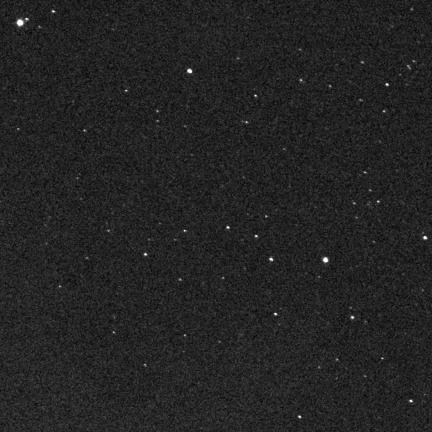blob: (187, 69, 192, 73)
